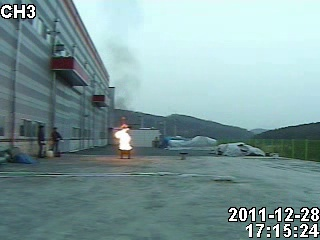fire: (112, 115, 133, 153)
